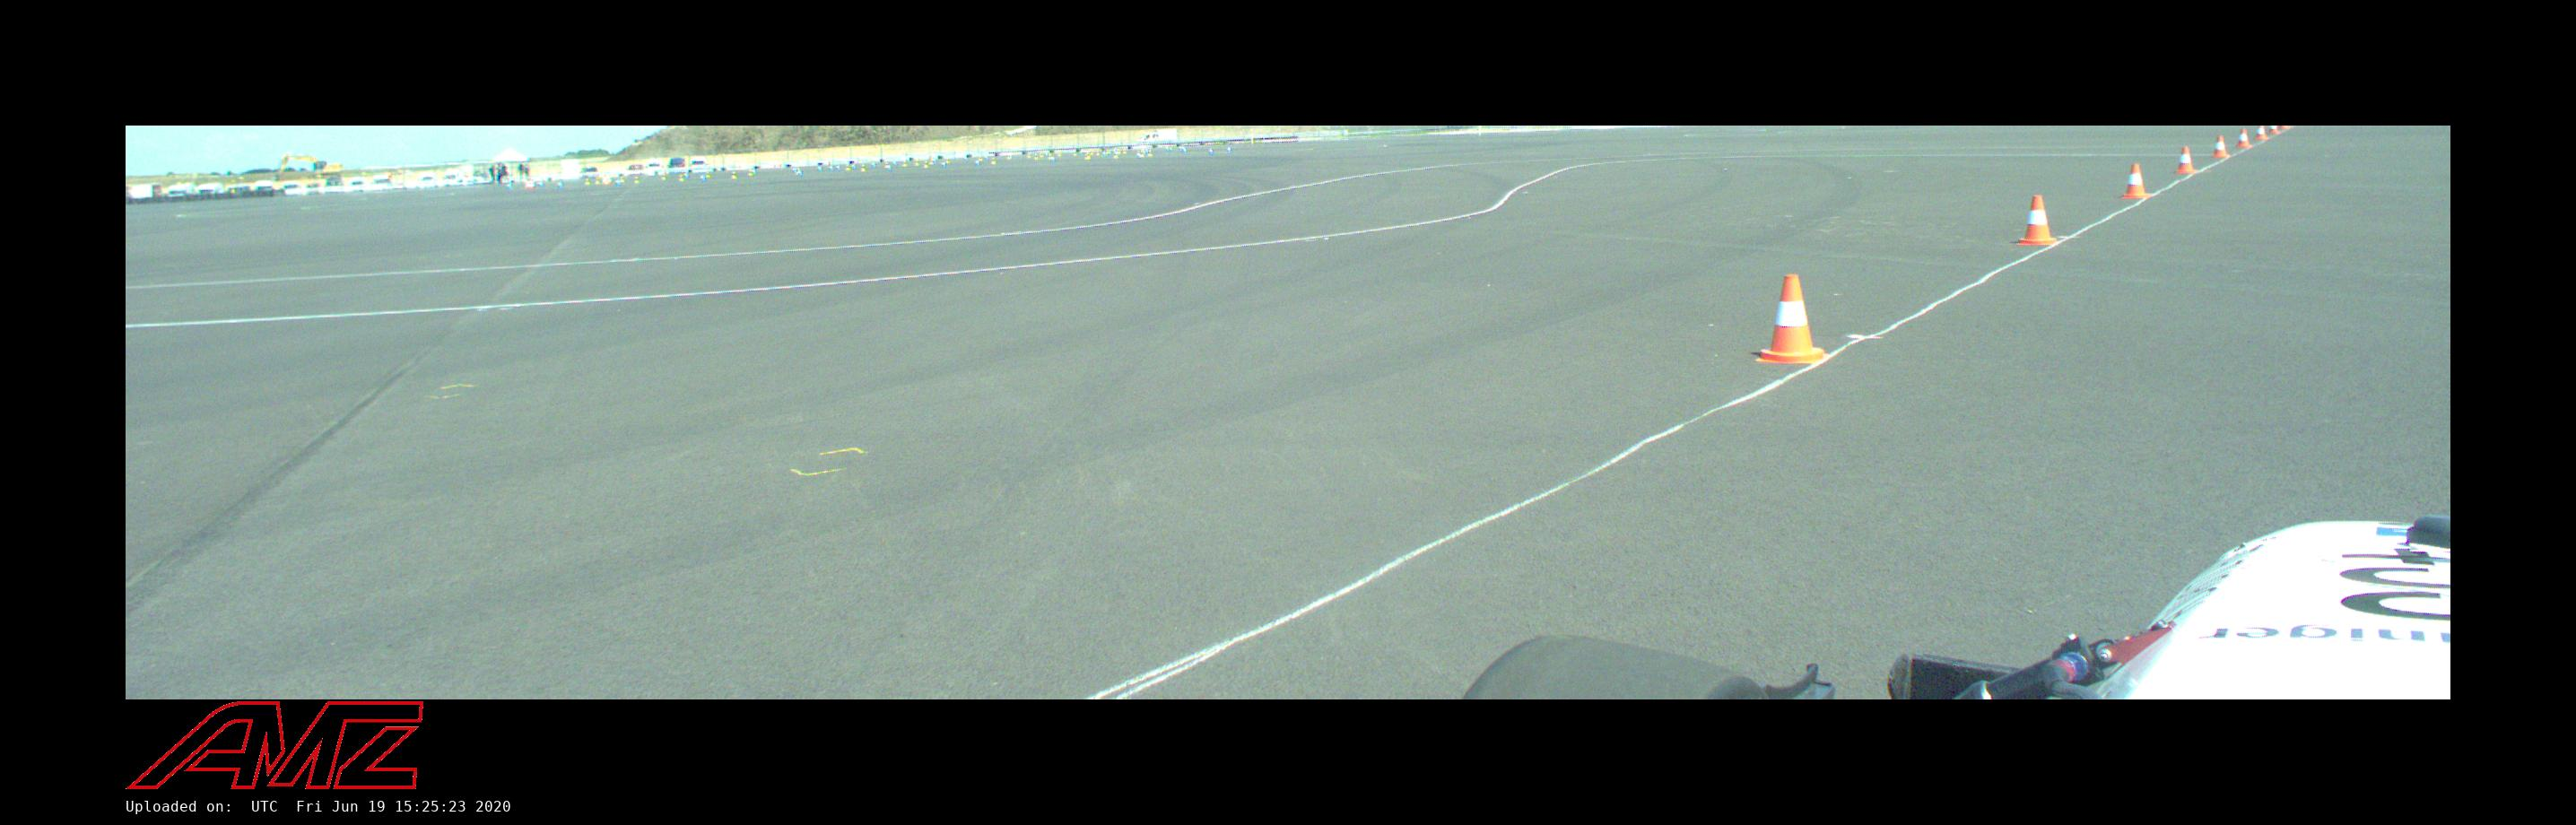orange_cone: (1755, 276, 1828, 363), (2017, 196, 2057, 245), (2121, 164, 2151, 199), (2175, 148, 2196, 173), (2211, 136, 2229, 156), (2236, 130, 2251, 146), (2256, 125, 2267, 140), (2269, 125, 2279, 133)
